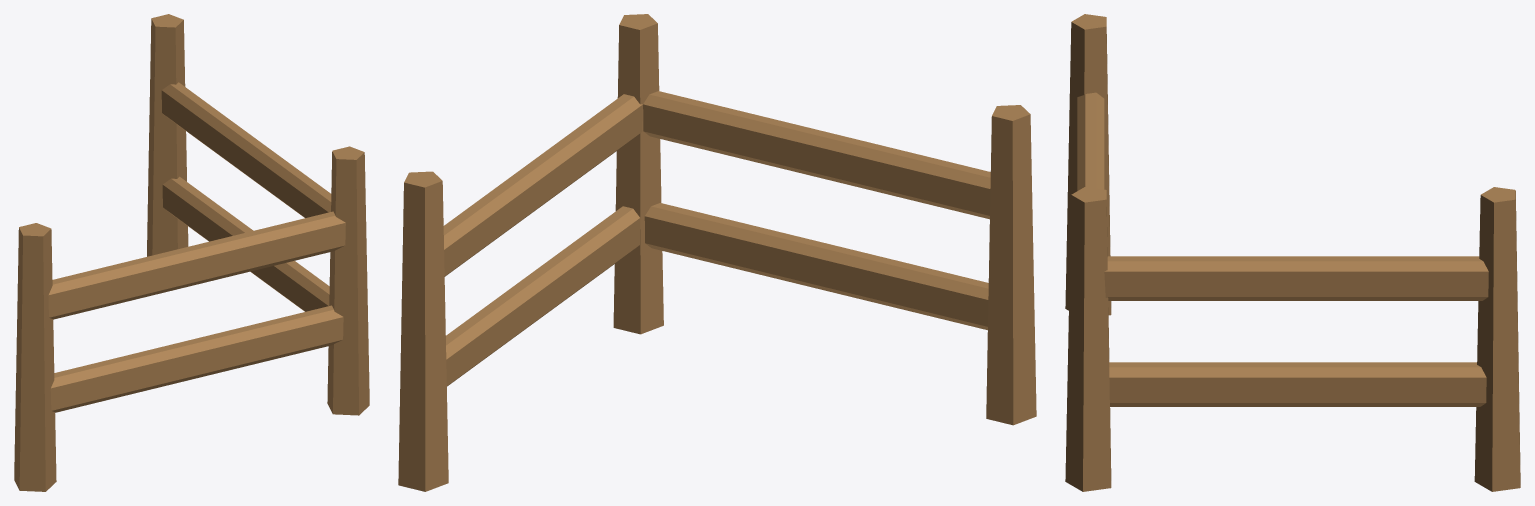
The model's file is enfeite_cerca_canto.glb.
3 views of the same model, side by side, from view 1: azimuth 30°, elevation 25°; view 2: azimuth 150°, elevation 25°; view 3: azimuth 270°, elevation 25° (orthographic). The views are drawn at different scales.
Visible parts, largest first — view 1: pedreira_enfeite_cerca_canto; view 2: pedreira_enfeite_cerca_canto; view 3: pedreira_enfeite_cerca_canto.
Boxes of the visible parts, x1,y1,x2,y2 form: pedreira_enfeite_cerca_canto: (14,14,369,491); pedreira_enfeite_cerca_canto: (398,14,1036,491); pedreira_enfeite_cerca_canto: (1065,14,1520,491).
Bounding box in the file's own units: 0.9389 × 0.65 × 0.9341.
